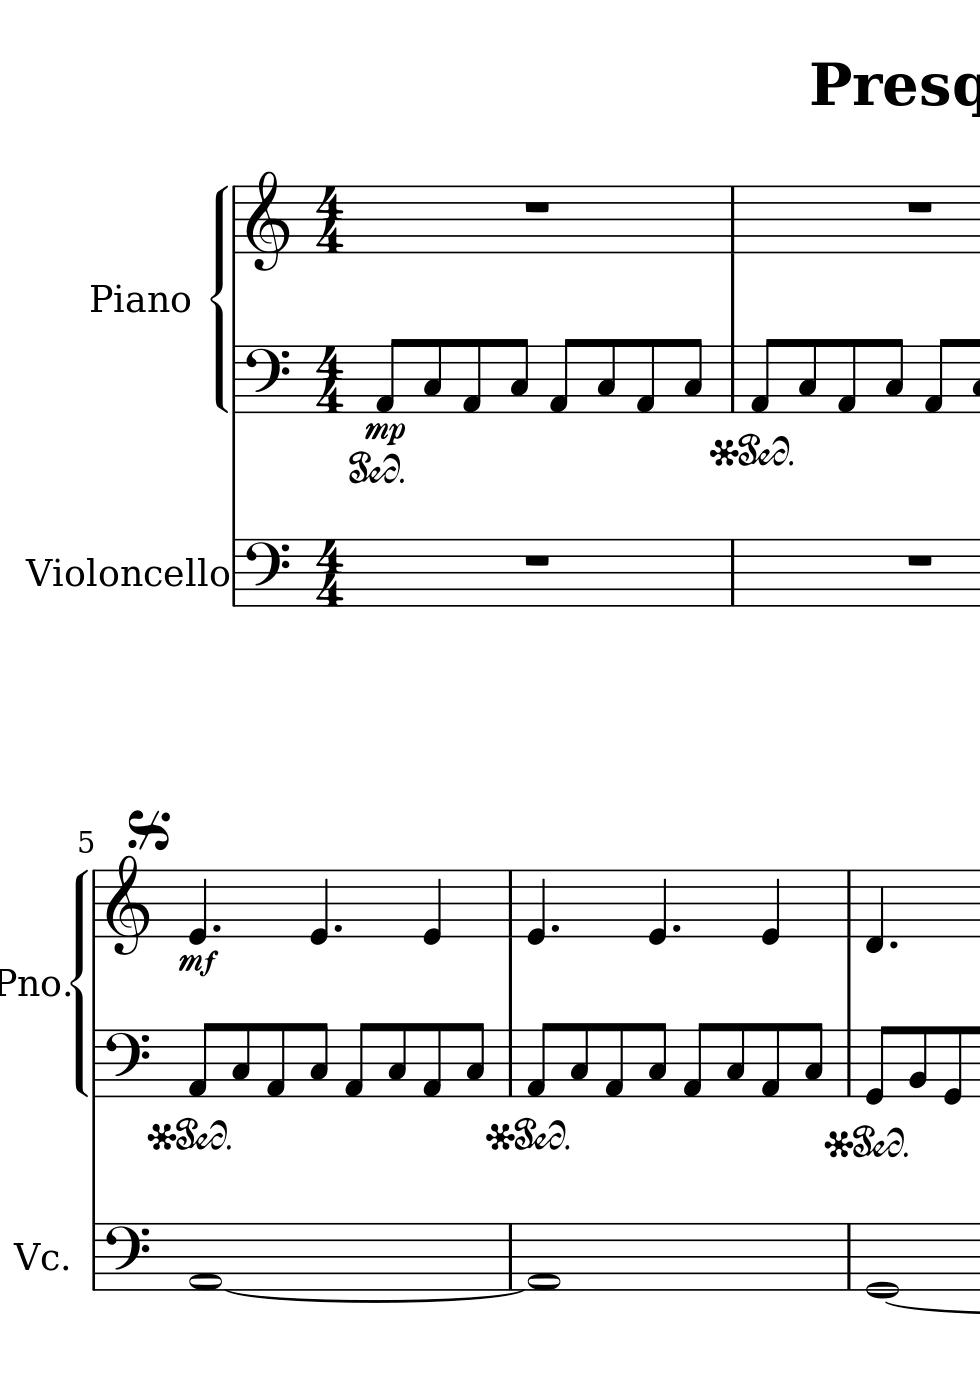1_0: (865, 1220, 900, 1300)
1_1: (526, 1220, 562, 1296), (187, 1221, 222, 1294)
4: (314, 537, 344, 574), (313, 574, 346, 607), (314, 221, 346, 255), (314, 185, 345, 220), (315, 344, 345, 380), (314, 380, 345, 413)
4_-1: (863, 869, 885, 955)
4_0: (307, 867, 330, 947), (645, 867, 668, 947), (525, 867, 548, 946), (758, 867, 782, 946), (421, 867, 443, 947), (186, 867, 208, 946)
5: (77, 827, 95, 855)
8_0: (864, 1024, 892, 1108), (942, 1024, 964, 1106)
8_1: (373, 335, 403, 414), (185, 1021, 214, 1099), (547, 335, 576, 415), (343, 1020, 371, 1099), (681, 1020, 708, 1099), (923, 335, 949, 416), (525, 1020, 552, 1099), (749, 336, 775, 414), (459, 336, 483, 415), (633, 336, 657, 415), (835, 336, 858, 415), (264, 1020, 287, 1099), (420, 1021, 443, 1099), (603, 1020, 625, 1099), (759, 1021, 781, 1099)
8_2: (907, 1024, 928, 1099)
8_3: (507, 336, 530, 415), (421, 337, 444, 415), (595, 337, 618, 415), (682, 337, 704, 415), (795, 337, 818, 415), (230, 1021, 252, 1099), (307, 1021, 329, 1099), (386, 1021, 408, 1099), (463, 1021, 486, 1099), (724, 1021, 747, 1098), (568, 1021, 590, 1099), (646, 1021, 667, 1099), (803, 1021, 824, 1099), (883, 337, 904, 415)
Brace: (211, 179, 230, 416)
Fclef: (102, 1027, 152, 1099), (243, 343, 290, 414), (243, 538, 290, 609), (105, 1222, 151, 1293)
Gclef: (244, 166, 290, 271), (106, 853, 150, 957)
Pno: (85, 281, 193, 315), (1, 964, 63, 1000)
Rests1: (902, 551, 937, 571), (903, 197, 937, 216), (520, 197, 553, 216), (520, 551, 553, 571)
Segno: (125, 805, 172, 854)
Single_barline: (722, 186, 742, 253), (723, 344, 742, 414), (723, 539, 741, 607), (840, 871, 858, 937), (501, 1223, 519, 1289), (502, 871, 519, 938), (502, 1029, 519, 1096), (840, 1029, 857, 1096), (86, 1223, 103, 1291), (840, 1223, 857, 1289), (87, 870, 103, 938), (227, 186, 242, 255), (227, 538, 242, 607), (228, 345, 242, 413), (88, 1030, 102, 1096)
TimeSig: (313, 185, 349, 255), (313, 346, 347, 414), (314, 538, 347, 606)
Vc: (10, 1238, 62, 1274)
dot: (548, 920, 562, 936), (669, 922, 683, 936), (887, 937, 900, 951), (331, 922, 344, 936), (210, 922, 221, 935)
mf: (175, 948, 220, 980)
mp: (361, 420, 409, 448)
